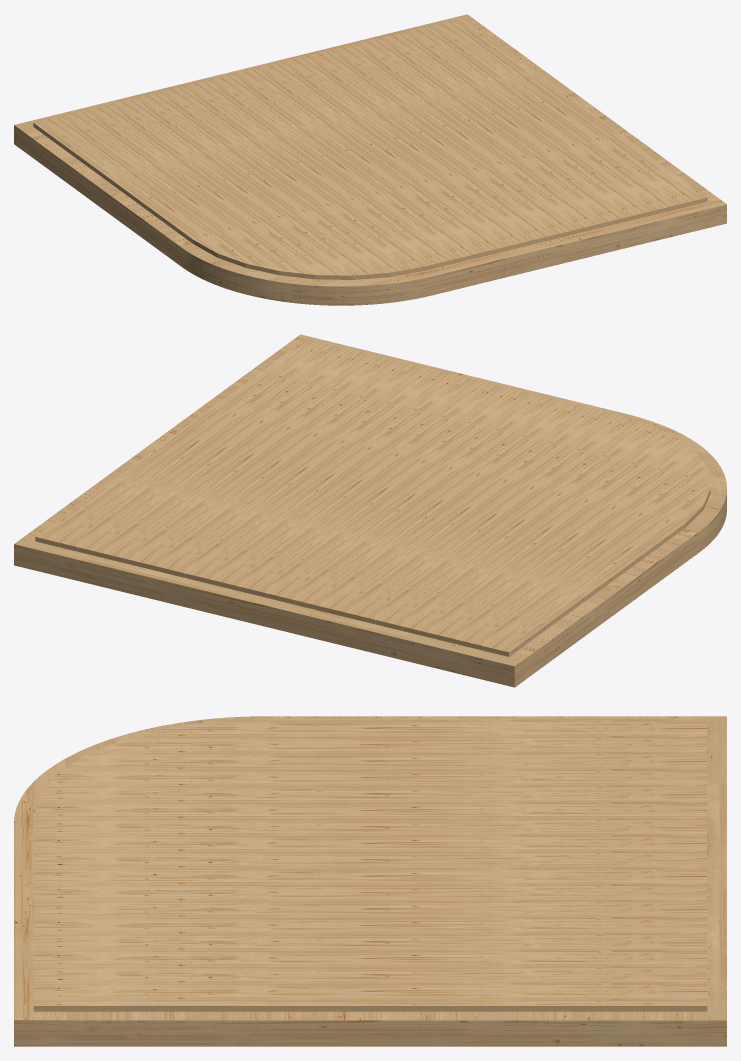
File: Roundy_Alus_90mm.glb
3 views of the same model, one above another, from view 1: azimuth 30°, elevation 25°; view 2: azimuth 150°, elevation 25°; view 3: azimuth 270°, elevation 25° (orthographic). The views are drawn at different scales.
Parts seen in each view (by area): view 1: Box2131641170, Box2131641188, Rectangle772, Rectangle831; view 2: Box2131641170, Box2131641188, Rectangle772, Rectangle831; view 3: Box2131641188, Box2131641170, Rectangle831, Rectangle772.
Boxes of the visible parts, x1=… form: Box2131641170: x1=33, y1=69, x2=497, y2=279; Box2131641188: x1=253, y1=18, x2=707, y2=252; Rectangle772: x1=14, y1=68, x2=504, y2=305; Rectangle831: x1=245, y1=14, x2=726, y2=277; Box2131641170: x1=267, y1=395, x2=710, y2=656; Box2131641188: x1=35, y1=338, x2=537, y2=597; Rectangle772: x1=259, y1=394, x2=726, y2=687; Rectangle831: x1=14, y1=334, x2=545, y2=624; Box2131641188: x1=33, y1=865, x2=707, y2=1011; Box2131641170: x1=33, y1=718, x2=707, y2=865; Rectangle831: x1=14, y1=871, x2=726, y2=1046; Rectangle772: x1=14, y1=716, x2=726, y2=871.
Bounding box in the file's own units: 2.22 × 0.1111 × 2.2.
1 material, 1 textured.
